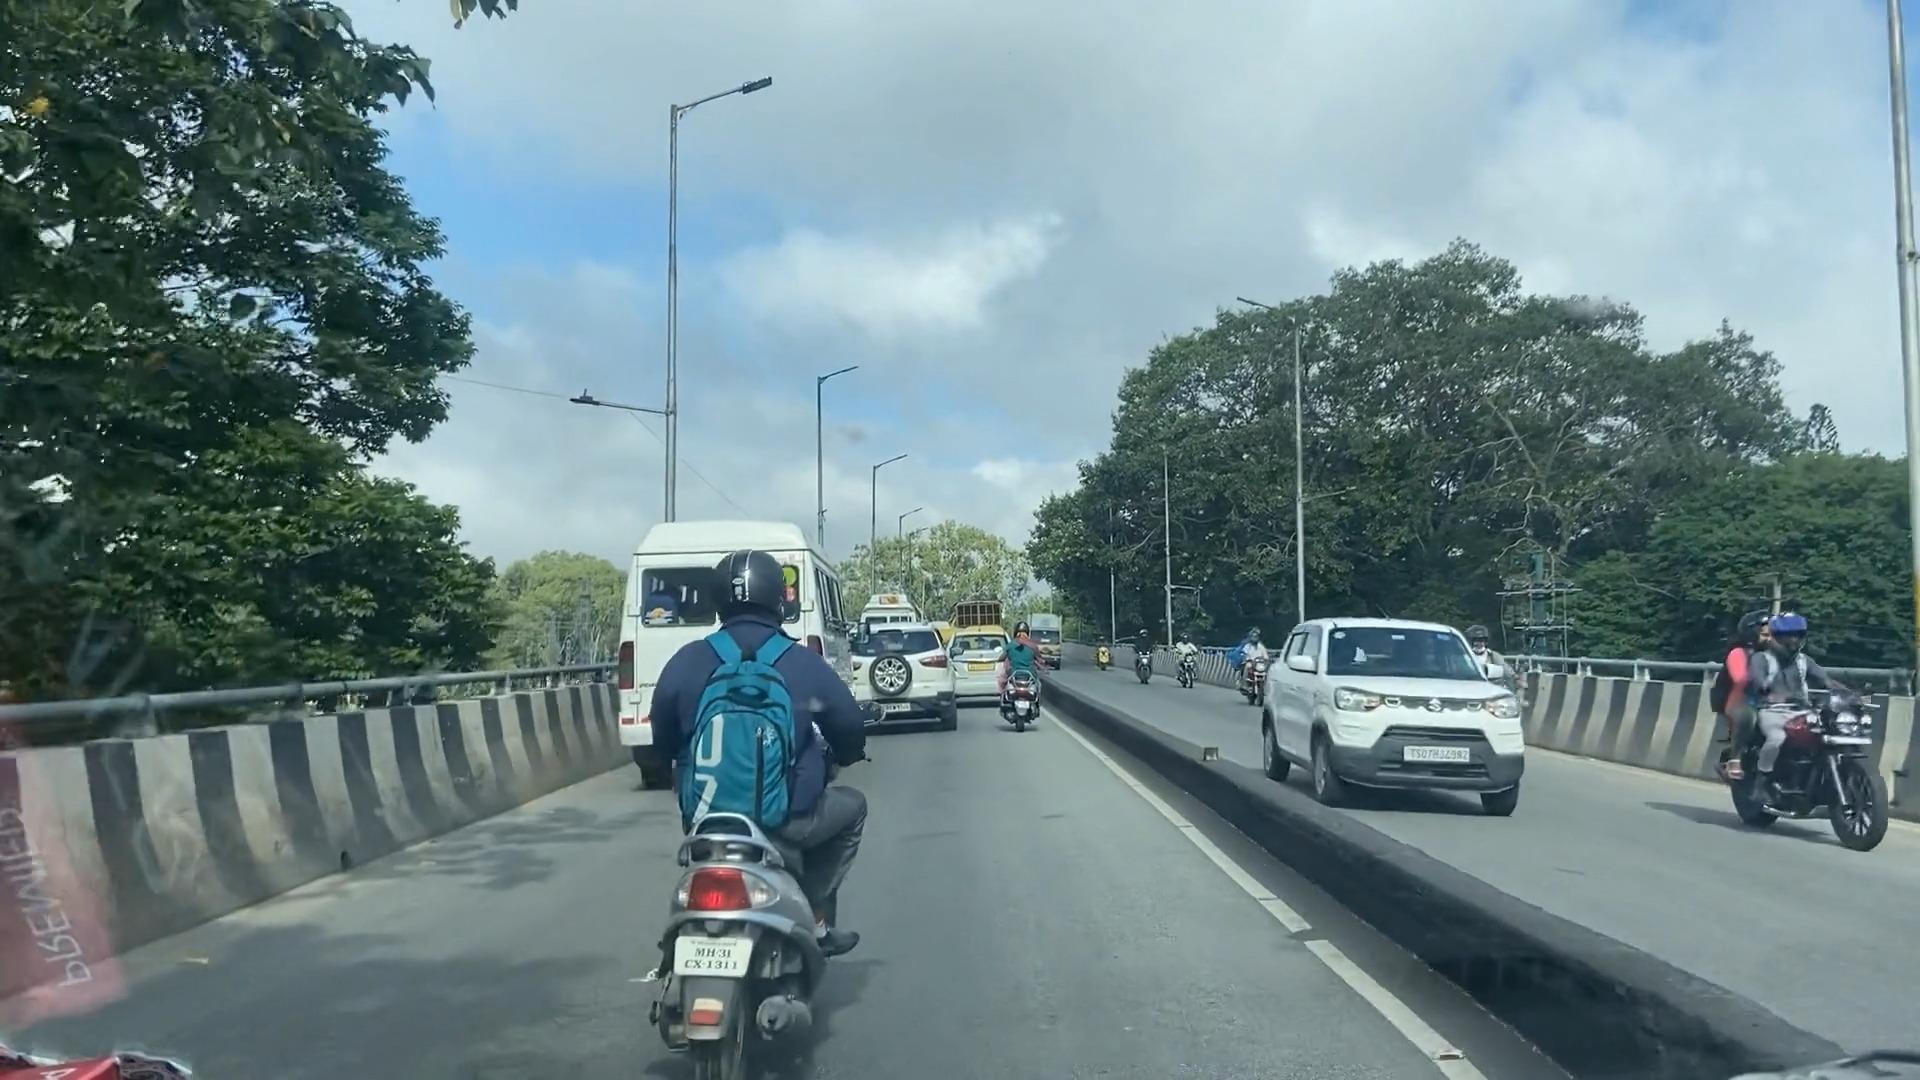LMV: (630, 575, 862, 1080), (1001, 617, 1034, 723)
